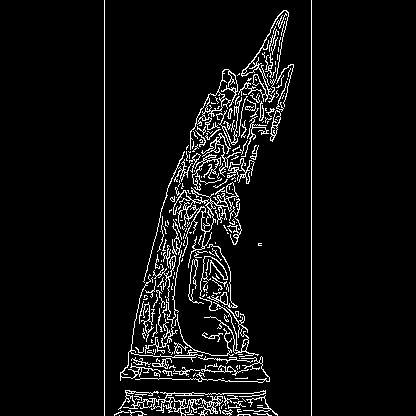buddha-sitting: (68, 172, 214, 270)
